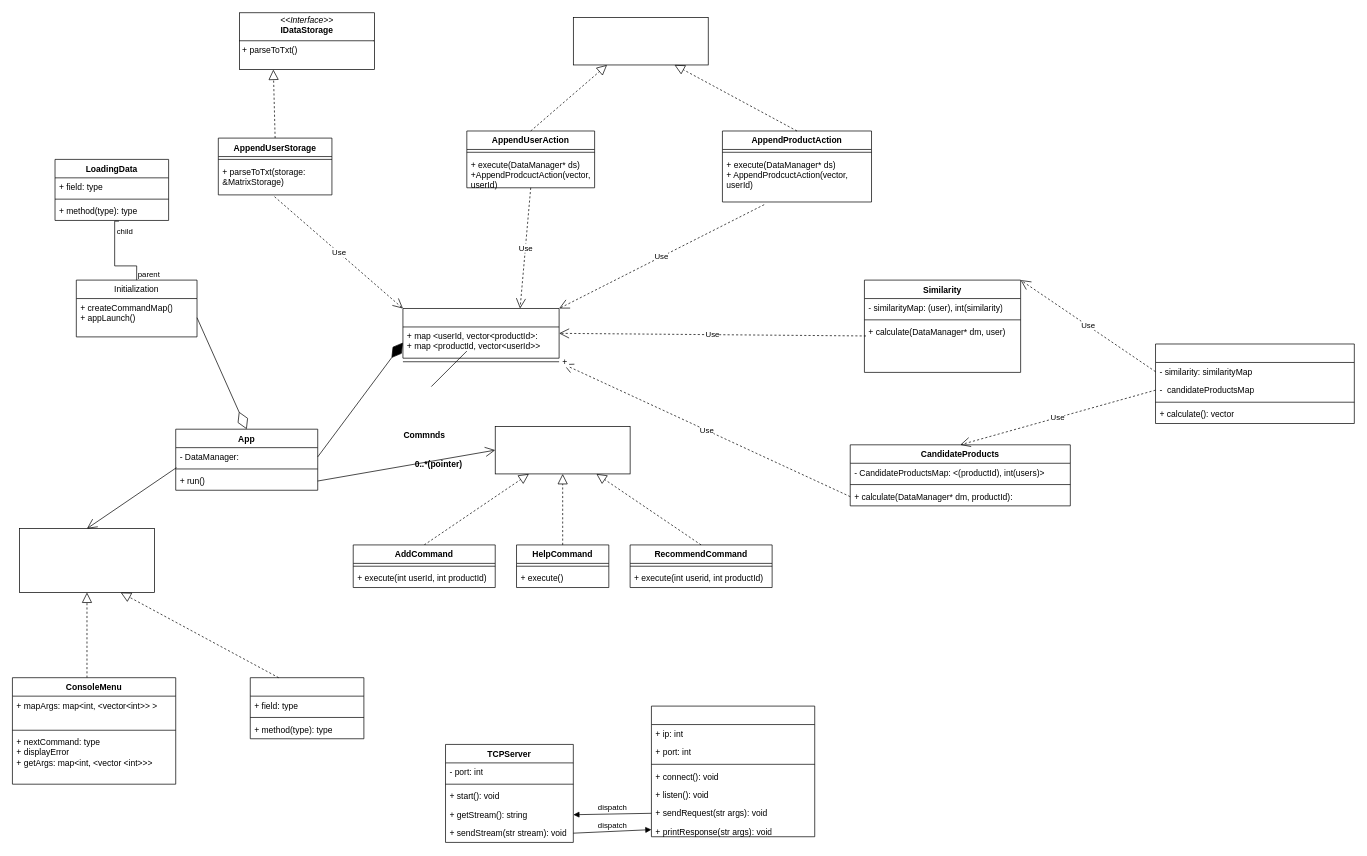
Image size: 1367x856. Some labels were removed from this diagram. The shapes that lost their labels are listed below. From the top down, each one's box as (x1, y1, x2, y2) in pixels, then its label:
(573, 17, 708, 65): <<Interface>> IDataAction + execute()
(402, 308, 559, 358): DataManager
(1155, 343, 1354, 424): RecommendationList
(495, 426, 630, 474): <<Interface>> ICommand + execute()
(19, 528, 154, 592): <<Interface>> IMenu + nextCommand(): + displayError():
(250, 677, 364, 739): Classname
(651, 705, 815, 837): Client
